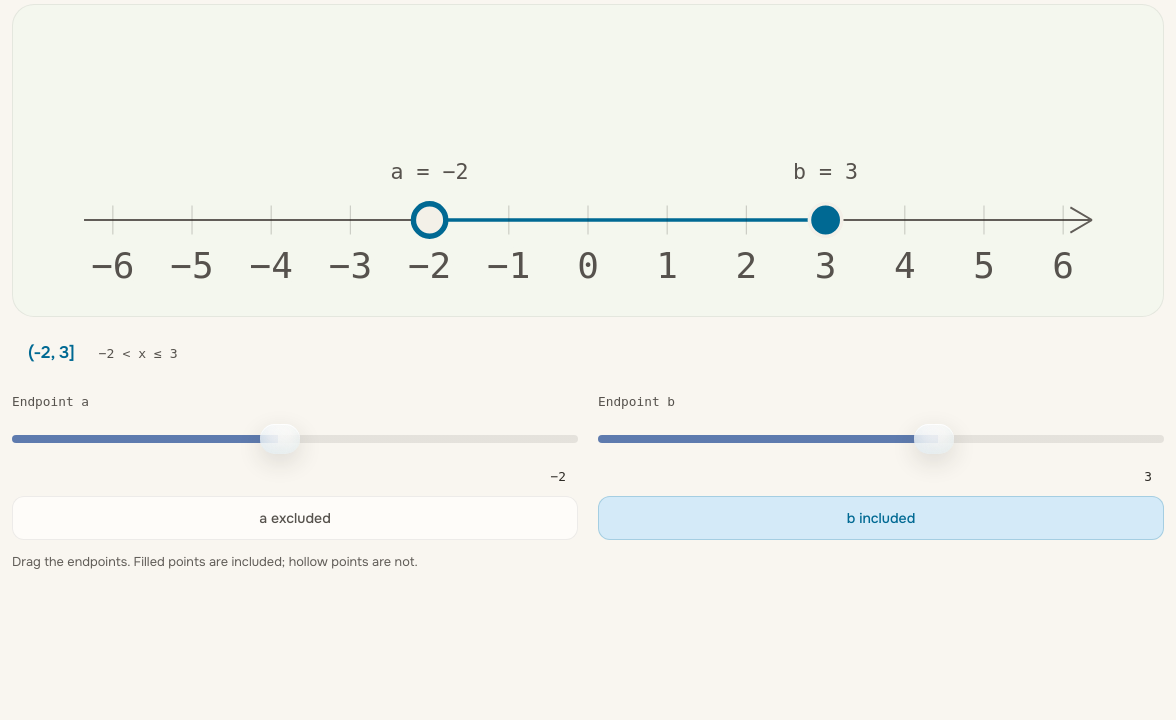
Scenario: ConceptDiagram › updates interval and inequality notation from its controls
This screenshot has width=1176, height=720.
Set the slider labelled "Endpoint a" to "-1": (344, 438) [12,416,578,460]
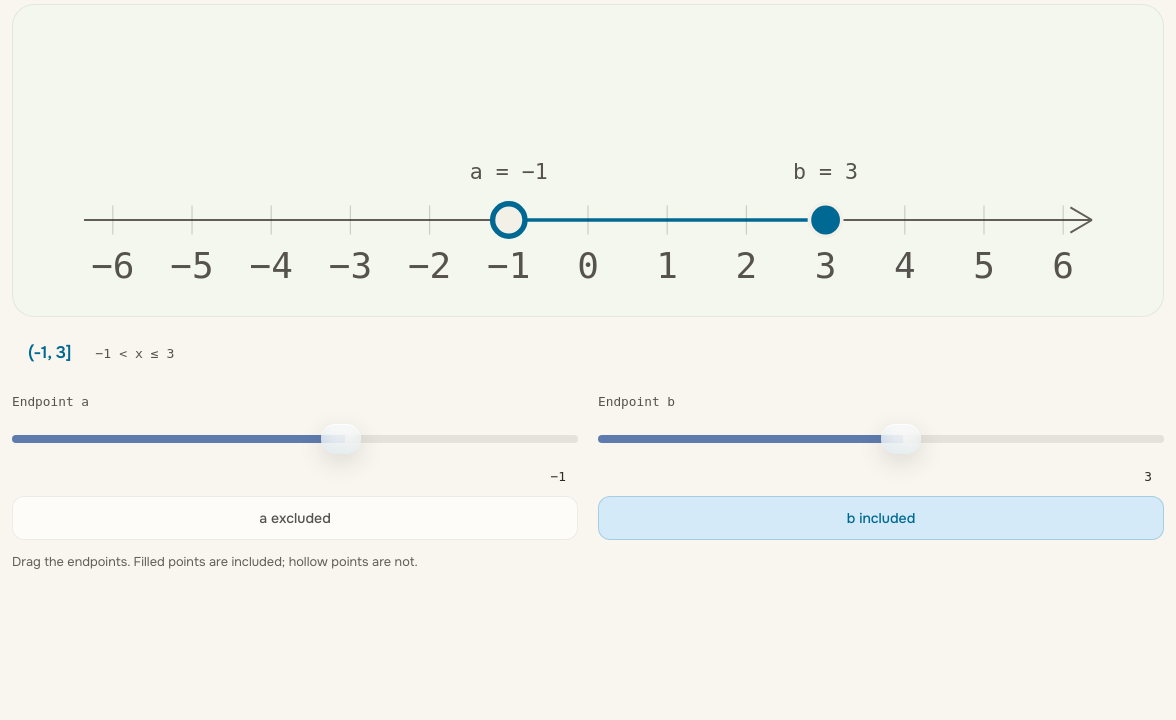
Set the slider labelled "Endpoint b" to "4": (987, 438) [598,416,1164,460]
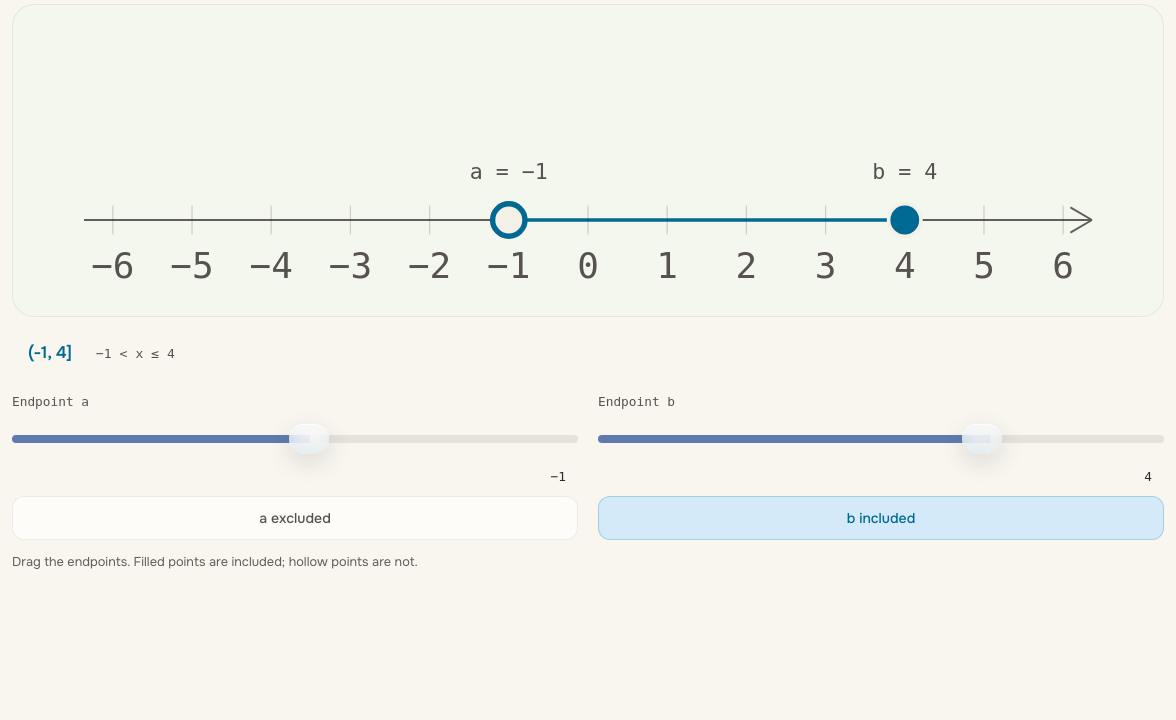
Click the button with aria-label "Include endpoint a": (295, 518) [12,496,578,540]
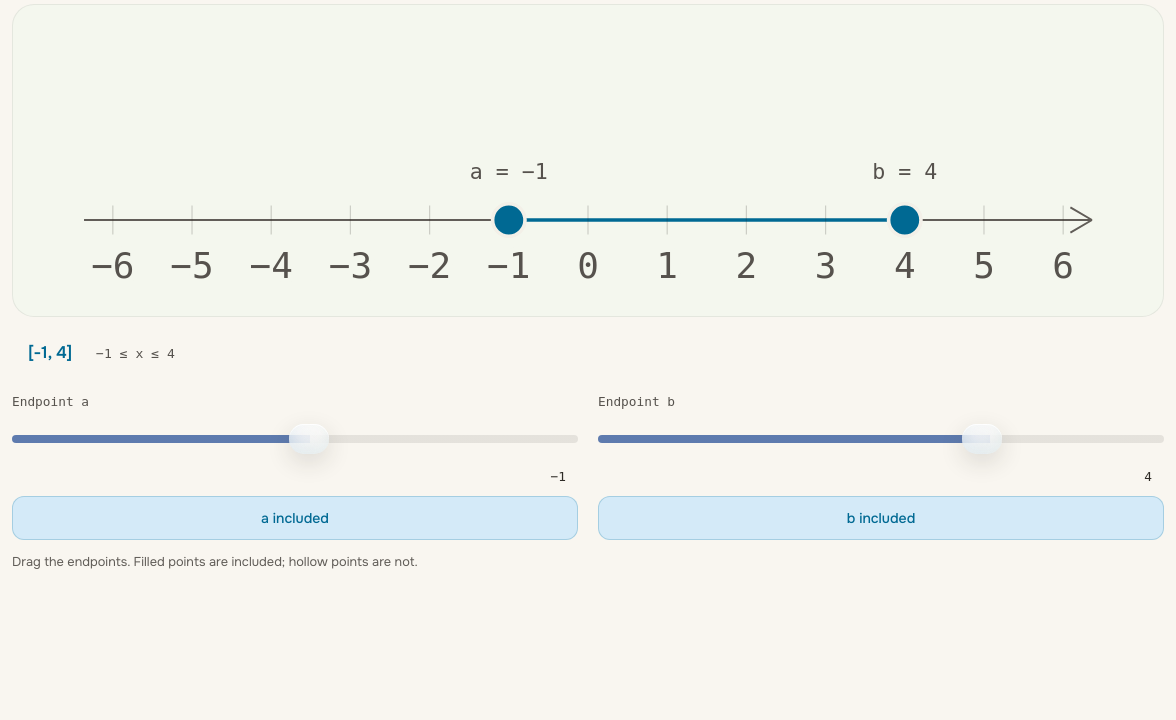
Expected: the text "[-1, 4]" is shown, [28,341,72,366]
Now the text "−1 ≤ x ≤ 4" is shown, box [96,346,175,361]
